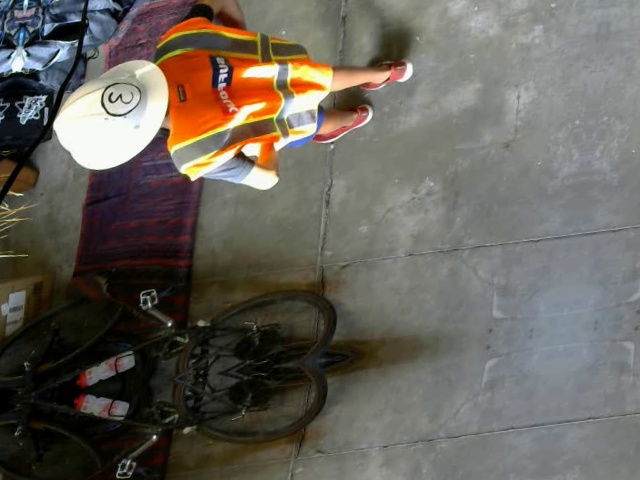three: (97, 78, 143, 118)
